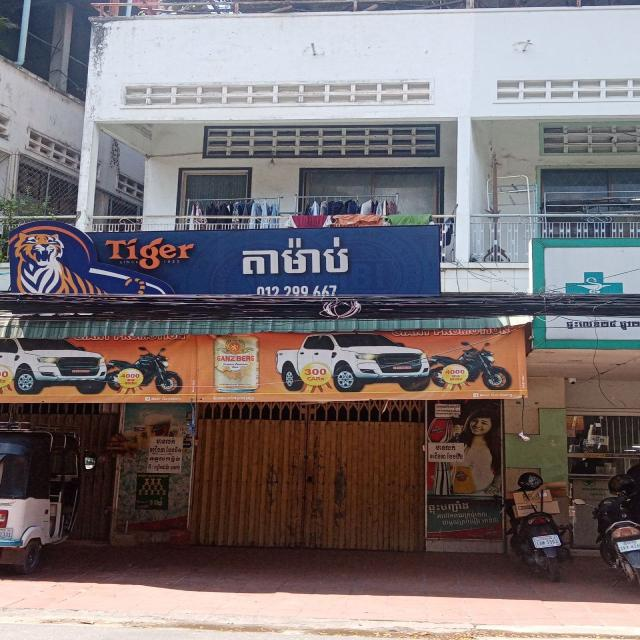893: (549, 318, 639, 336), (419, 496, 472, 515), (135, 461, 187, 474), (427, 444, 464, 462), (140, 453, 187, 464), (142, 445, 189, 453), (151, 436, 184, 446)
Yolov11_80vkh: (221, 230, 362, 284)
